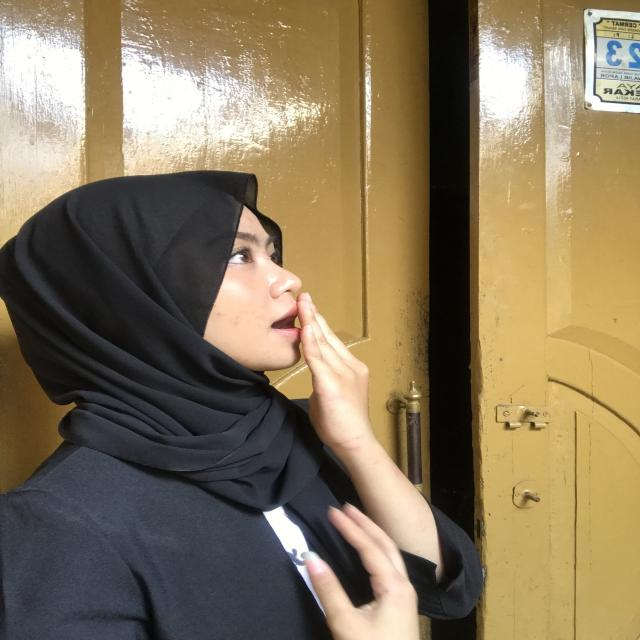ngantuk: (260, 292, 394, 479)
